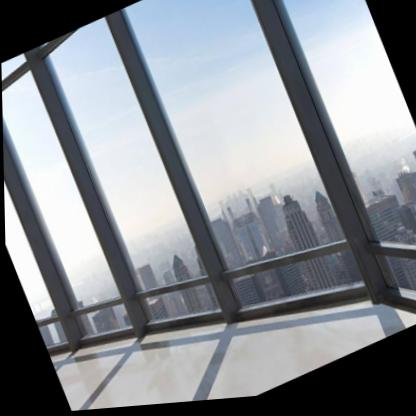Window: (118, 0, 373, 365), (36, 9, 227, 357), (1, 61, 136, 363)
